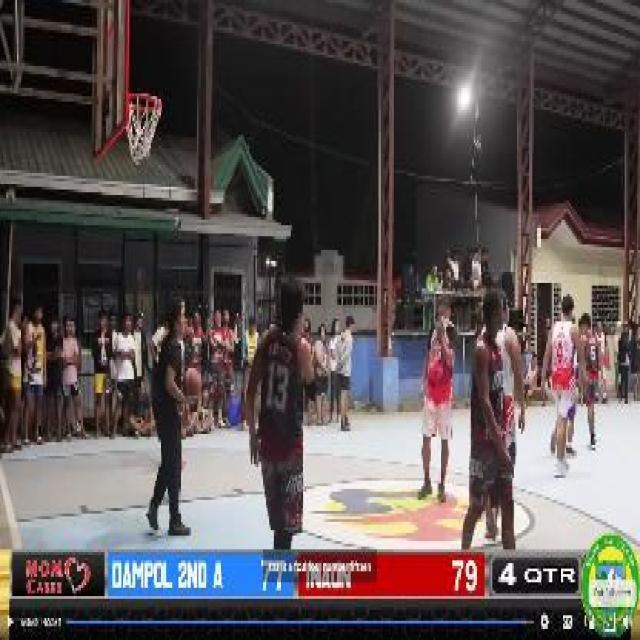ball: (180, 363, 202, 401)
hoop: (129, 91, 167, 114)
